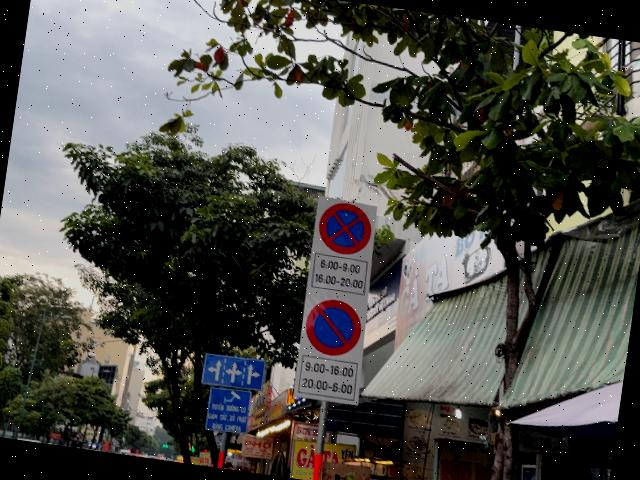cam-do-xe: (303, 296, 364, 359)
cam-dung-va-do-xe: (316, 200, 376, 258)
